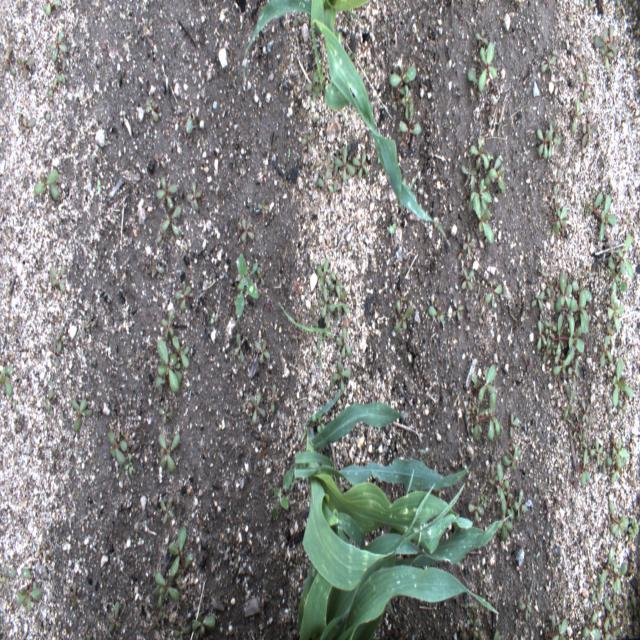crop: (243, 0, 450, 248), (295, 394, 475, 592), (297, 515, 506, 639)
weed: (561, 389, 635, 493), (531, 269, 593, 385), (454, 138, 505, 247), (581, 544, 638, 637), (599, 228, 635, 368), (151, 306, 191, 431), (273, 295, 334, 366), (152, 520, 192, 627), (458, 359, 502, 446), (384, 58, 422, 152), (486, 462, 530, 543), (316, 140, 370, 201), (565, 66, 601, 156), (464, 21, 500, 98), (316, 250, 350, 324), (232, 251, 266, 321), (152, 175, 184, 247), (581, 189, 618, 245), (602, 358, 634, 421), (45, 33, 72, 100), (605, 498, 638, 550), (102, 426, 135, 474), (548, 168, 571, 236), (16, 566, 46, 617), (329, 330, 354, 389), (269, 465, 294, 524), (157, 424, 180, 485), (503, 404, 521, 475), (534, 122, 561, 166), (427, 298, 466, 328), (174, 610, 217, 637), (31, 168, 62, 205), (591, 26, 617, 70), (68, 394, 92, 440), (98, 593, 125, 633), (170, 271, 195, 314), (392, 289, 414, 337), (158, 486, 179, 530), (481, 278, 506, 314), (185, 173, 204, 220), (17, 52, 36, 96), (540, 613, 572, 639), (236, 209, 259, 245), (48, 261, 72, 295), (454, 232, 478, 266), (1, 362, 16, 415), (537, 48, 559, 84), (231, 331, 251, 368), (178, 103, 196, 142), (40, 382, 58, 419), (301, 120, 315, 166), (303, 68, 322, 101), (65, 576, 83, 610), (16, 112, 37, 141), (255, 335, 273, 368), (458, 267, 478, 296), (517, 588, 533, 624), (247, 393, 266, 422), (144, 91, 161, 123), (52, 326, 66, 363), (4, 46, 16, 88), (466, 492, 488, 514), (146, 254, 166, 278), (268, 378, 280, 416), (2, 565, 16, 596), (38, 0, 61, 18), (92, 168, 104, 198), (141, 10, 153, 40), (572, 44, 586, 69), (384, 218, 401, 238), (79, 322, 95, 341), (259, 194, 270, 217), (210, 303, 219, 330)
